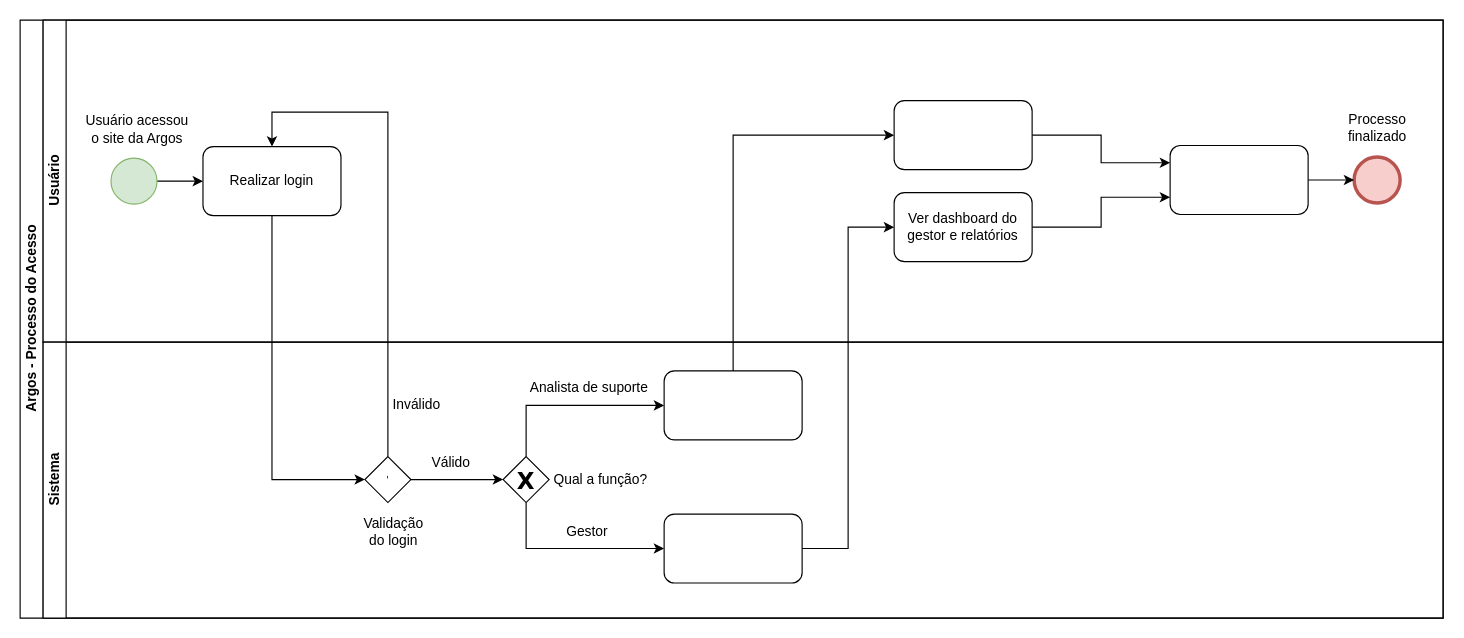
Image size: 1464x638. Some labels were removed from this diagram. The shapes that lost their labels are listed below. From the top down, each one's box as (x1, y1, x2, y2) in pixels, then its label:
(893, 99, 1032, 170): Analisar dashboard do analista
(1169, 144, 1308, 214): Tomar decisão
(663, 370, 802, 440): Redirecionar para tela do analista
(663, 513, 802, 583): Redirecionar para tela do gestor
